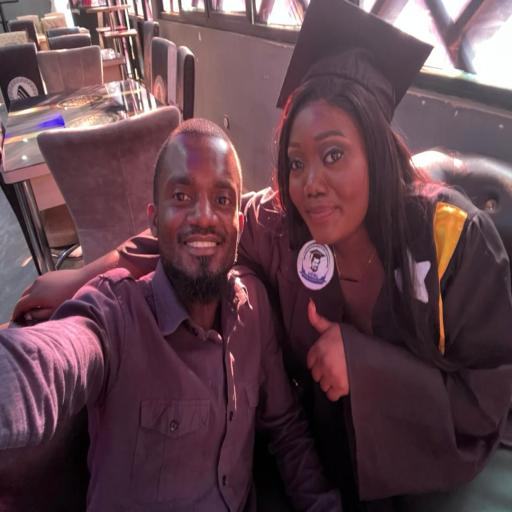MATTHIEU: (150, 120, 248, 304)
